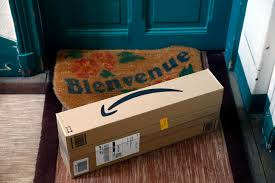package: (55, 68, 226, 181)
